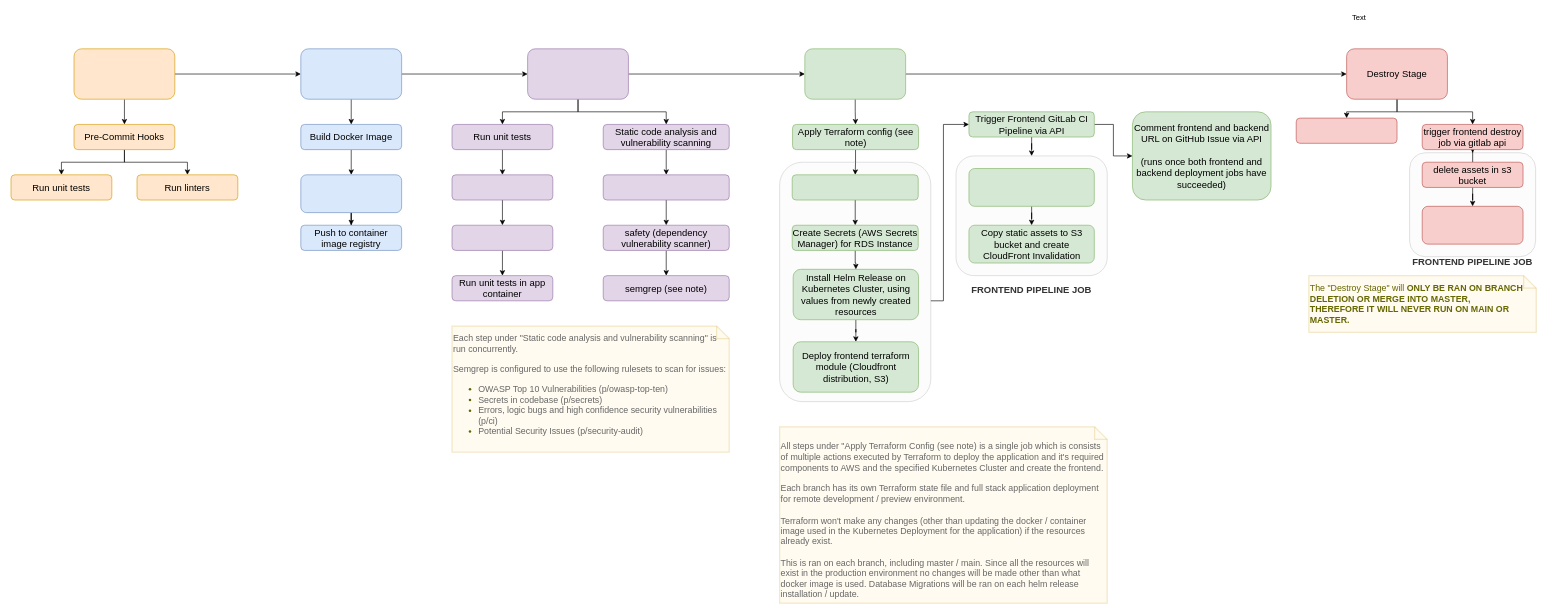
Some shapes in this 1548 by 614 pixel diagram are drawn without their labels. Here are the shapes that lost their labels. From the top down, the centre of each, then its label:
At pixel 124 73: "GitHub / Git".
At pixel 351 73: "Build Stage".
At pixel 577 73: "Test Stage".
At pixel 855 73: "Deployment Stage".
At pixel 1346 130: "terraform destroy".
At pixel 351 193: "Scan Docker Image for vulnerabilities using trivy".
At pixel 502 187: "Start PostgreSQL container".
At pixel 666 187: "flake8 (linter)".
At pixel 855 187: "Create PostgreSQL RDS instance".
At pixel 1031 187: "Build Frontend Static Assets, specifying API URL from job parameters".
At pixel 502 237: "Run database migrations".
At pixel 1472 225: "destroy terraform managed resources for branch".
